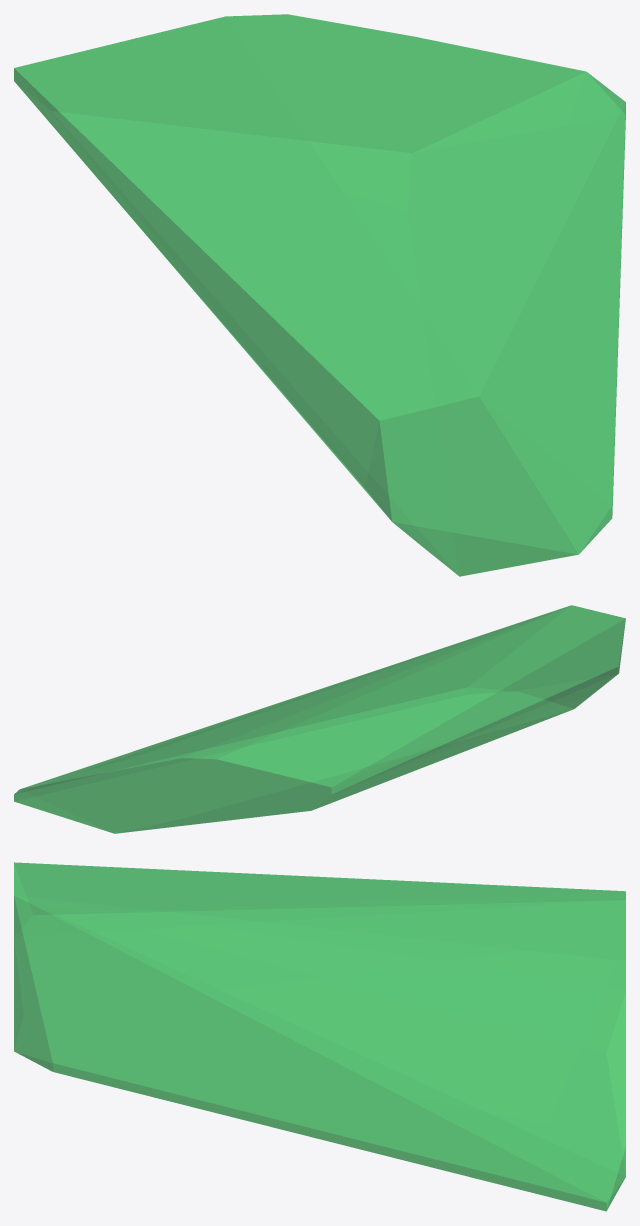
The picture shows the model from 3 angles, top to bottom: view 1: azimuth 30°, elevation 25°; view 2: azimuth 150°, elevation 25°; view 3: azimuth 270°, elevation 25°; orthographic projection. The views are drawn at different scales.
Parts seen in each view (by area): view 1: Shape_IndexedFaceSet.001_Shape_IndexedFaceSet.9004; view 2: Shape_IndexedFaceSet.001_Shape_IndexedFaceSet.9004; view 3: Shape_IndexedFaceSet.001_Shape_IndexedFaceSet.9004.
Boxes of the visible parts, x1=… form: Shape_IndexedFaceSet.001_Shape_IndexedFaceSet.9004: x1=14, y1=14, x2=625, y2=576; Shape_IndexedFaceSet.001_Shape_IndexedFaceSet.9004: x1=14, y1=605, x2=625, y2=833; Shape_IndexedFaceSet.001_Shape_IndexedFaceSet.9004: x1=14, y1=862, x2=625, y2=1211.
Bounding box in the file's own units: 0.0219 × 0.00558 × 0.0251.
